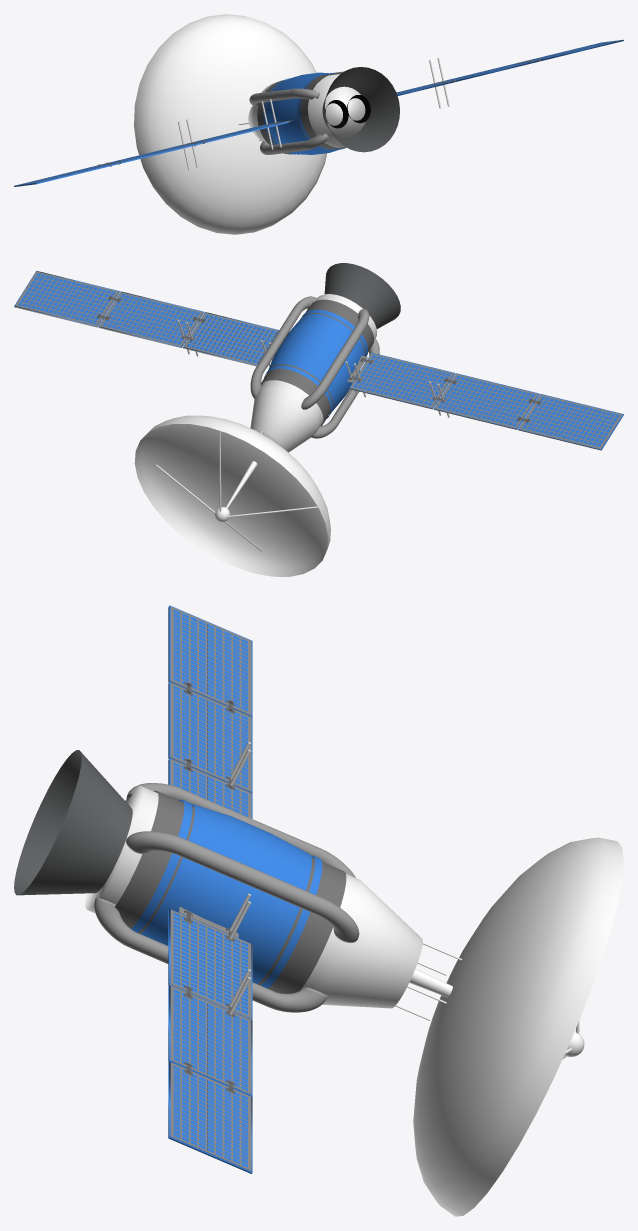
Rendered from space satellite.fbx.
The picture shows the model from 3 angles, top to bottom: view 1: azimuth 30°, elevation 25°; view 2: azimuth 150°, elevation 25°; view 3: azimuth 270°, elevation 25°; orthographic projection. The views are drawn at different scales.
Visible parts, largest first — view 1: antena, Cylinder.004, badan satelit, badan satelit.002, Cylinder, badan satelit.001, Cube.002, sayap, Cube.011, sayap.001; view 2: antena, sayap, sayap.001, badan satelit.002, badan satelit, Cylinder, Cylinder.004, Cube.005, Cube.007, Cube.004, Cube.010, Cube.006 (+4 smaller); view 3: antena, badan satelit.002, badan satelit, Cylinder.004, sayap.001, Cylinder, sayap, badan satelit.001, Cube.007, Cube.005, Cube.010, Cube.004 (+4 smaller).
Part boxes in pixels (x1=…): antena: x1=134, y1=14, x2=326, y2=234; Cylinder.004: x1=322, y1=67, x2=399, y2=152; badan satelit: x1=248, y1=74, x2=365, y2=153; badan satelit.002: x1=263, y1=72, x2=346, y2=154; Cylinder: x1=249, y1=71, x2=344, y2=154; badan satelit.001: x1=257, y1=73, x2=346, y2=154; Cube.002: x1=14, y1=121, x2=288, y2=186; sayap: x1=17, y1=122, x2=285, y2=185; Cube.011: x1=397, y1=39, x2=623, y2=95; sayap.001: x1=397, y1=40, x2=621, y2=94; antena: x1=134, y1=415, x2=330, y2=576; sayap: x1=349, y1=353, x2=622, y2=450; sayap.001: x1=14, y1=271, x2=278, y2=368; badan satelit.002: x1=264, y1=309, x2=368, y2=418; badan satelit: x1=250, y1=294, x2=377, y2=452; Cylinder: x1=250, y1=296, x2=379, y2=438; Cylinder.004: x1=324, y1=263, x2=400, y2=328; Cube.005: x1=18, y1=273, x2=115, y2=323; Cube.007: x1=522, y1=396, x2=619, y2=446; Cube.004: x1=437, y1=375, x2=534, y2=426; Cube.010: x1=102, y1=294, x2=199, y2=344; Cube.006: x1=353, y1=355, x2=450, y2=405; antena: x1=413, y1=837, x2=623, y2=1216; badan satelit.002: x1=131, y1=799, x2=322, y2=988; badan satelit: x1=85, y1=786, x2=422, y2=1008; Cylinder.004: x1=14, y1=750, x2=132, y2=895; sayap.001: x1=169, y1=910, x2=252, y2=1171; Cylinder: x1=94, y1=783, x2=359, y2=1012; sayap: x1=169, y1=606, x2=252, y2=818; badan satelit.001: x1=115, y1=790, x2=346, y2=993; Cube.007: x1=173, y1=609, x2=247, y2=711; Cube.005: x1=173, y1=1066, x2=247, y2=1167; Cube.010: x1=173, y1=989, x2=247, y2=1091; Cube.004: x1=173, y1=686, x2=247, y2=787.
Bounding box in the file's own units: 2739 × 1056 × 1329.
